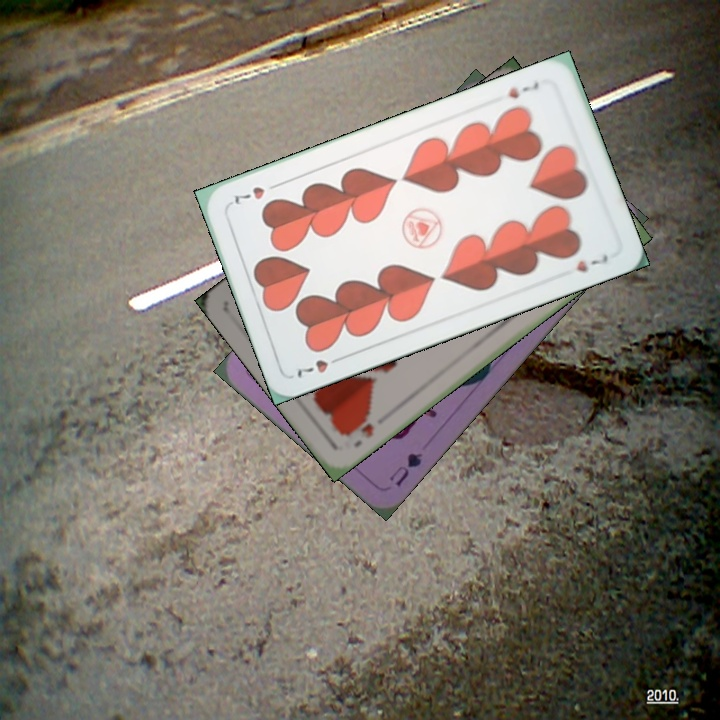GU: (385, 448, 425, 489)
H7: (292, 351, 347, 381), (504, 77, 542, 101)
HO: (337, 413, 377, 451)
